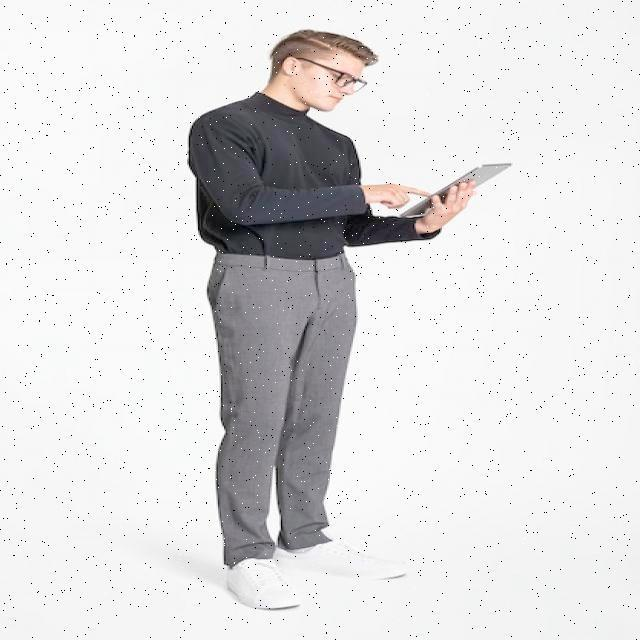no_apron: (416, 177, 470, 240), (368, 174, 414, 218)
